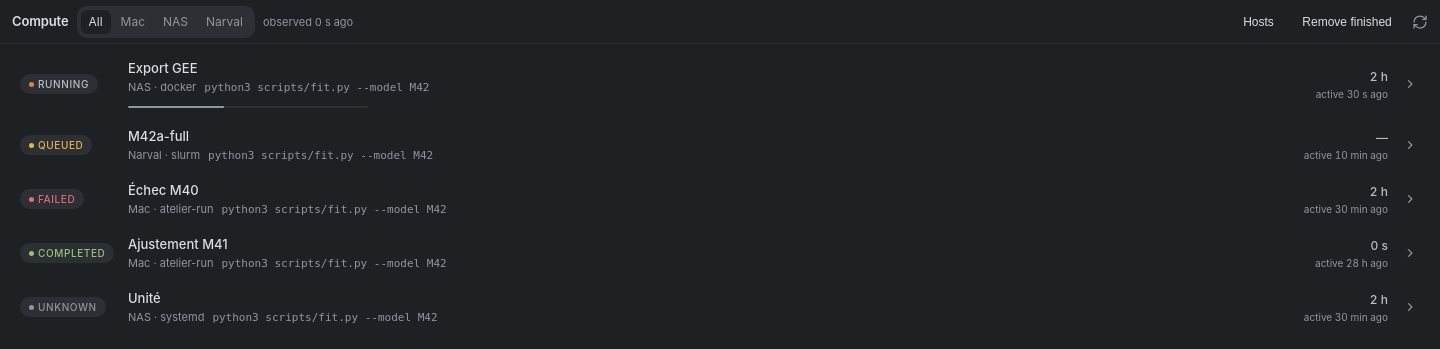
Test case: CalculsSurface › retirer les runs terminés › « Retirer les terminés » envoie un message par run terminé visible et les masque
This screenshot has width=1440, height=349.
Expected: the number of elements with class "calculs-run" is 5, [8,52,1432,116]; [8,120,1432,170]; [8,174,1432,224]; [8,228,1432,278]; [8,282,1432,332]
Click the button "Remove finished" at x=1347, y=22, box [1290,8,1404,36]
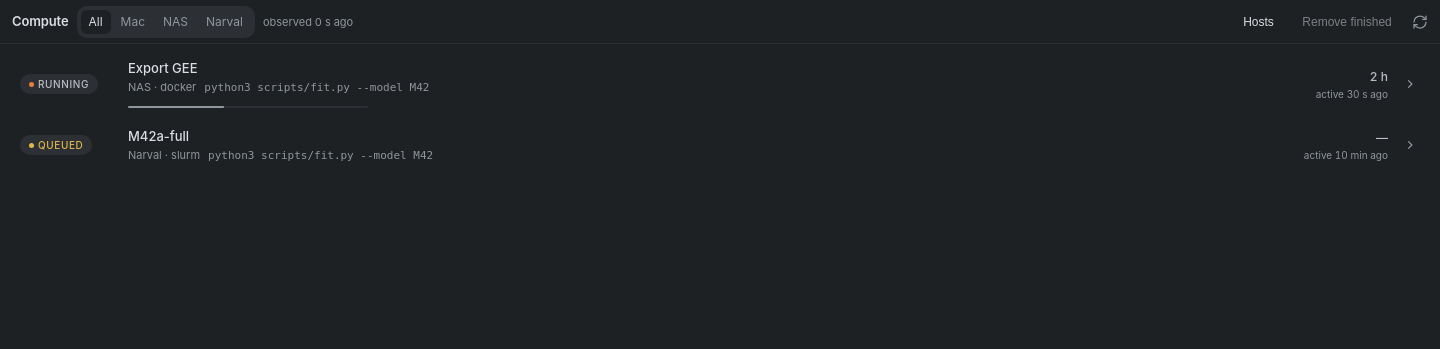
Result: the button "Remove finished" is disabled at [1290,8,1404,36]
